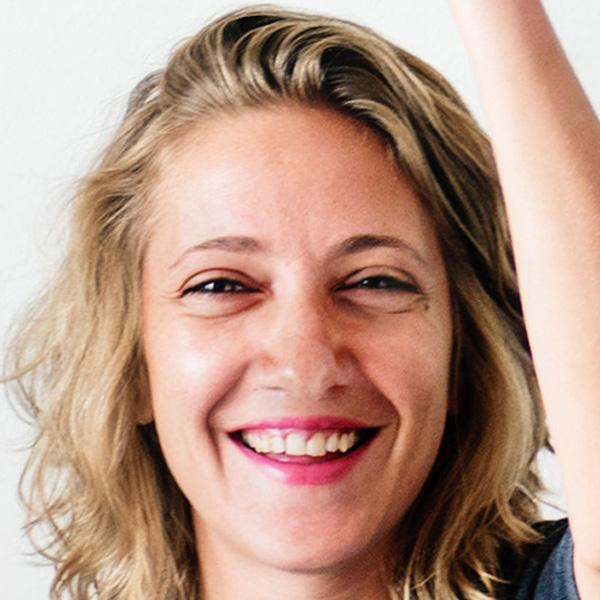Eyes: (327, 261, 429, 315), (169, 262, 271, 313)
